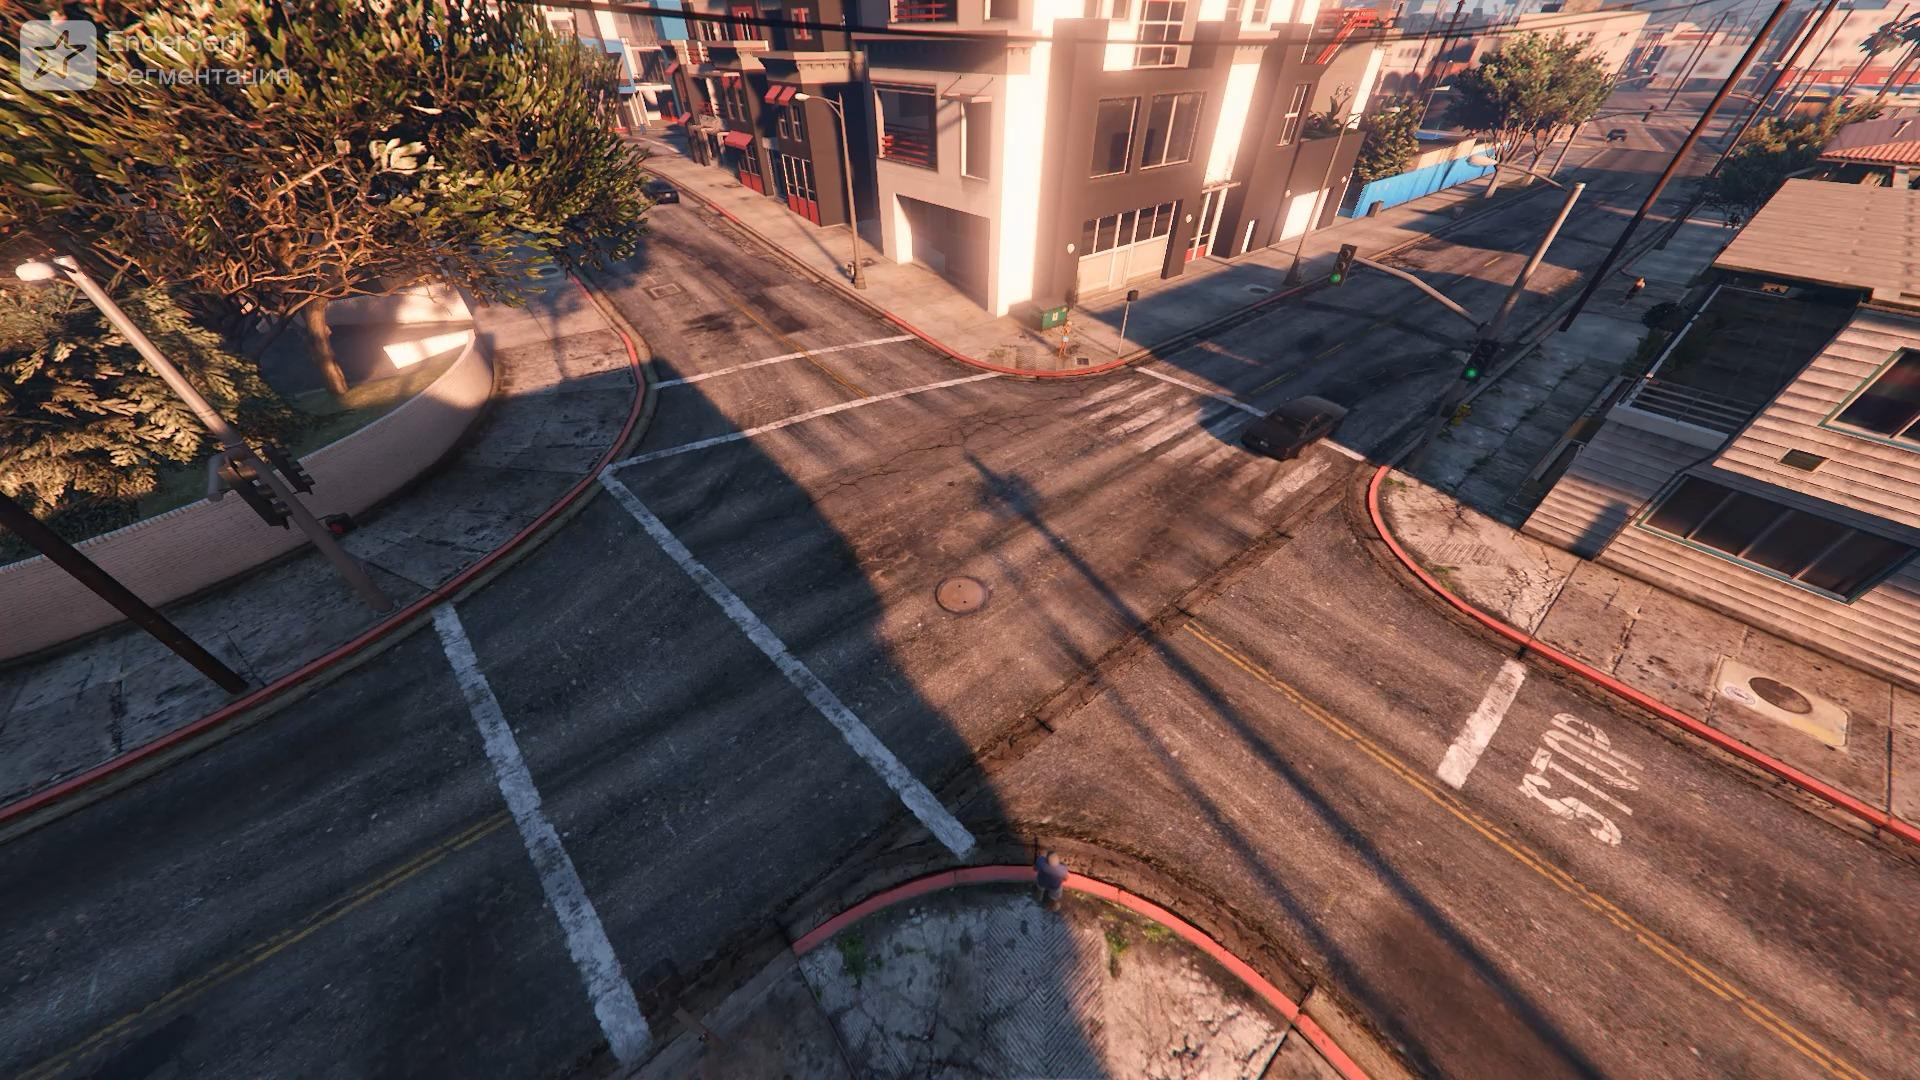car: (1238, 392, 1352, 462), (637, 178, 682, 207), (1606, 127, 1630, 142)
